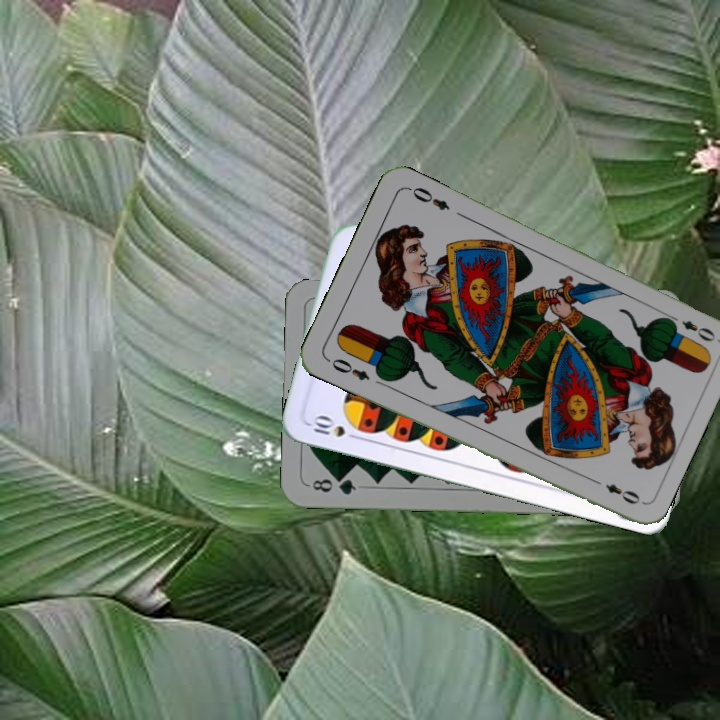EO: (663, 310, 719, 345), (327, 354, 373, 383)
G8: (308, 473, 359, 498)
S10: (305, 413, 363, 443)
